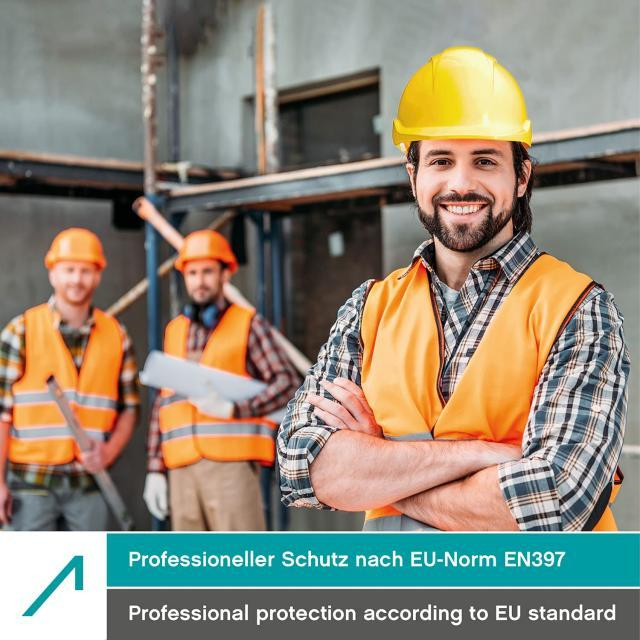safetyhelmet: (393, 46, 531, 152), (174, 230, 237, 272), (44, 228, 106, 269)
